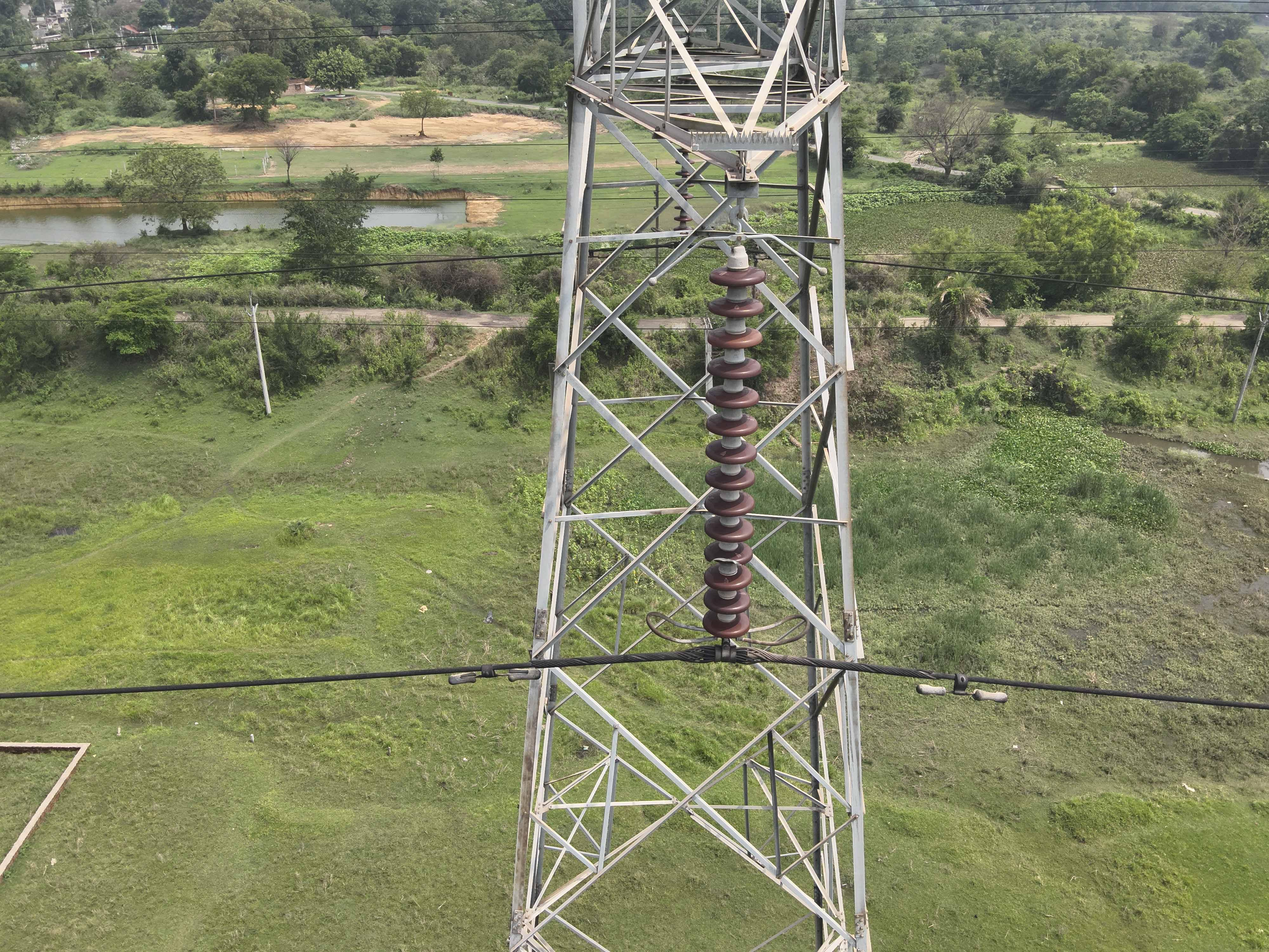broken_insulator: (703, 543, 753, 566)
